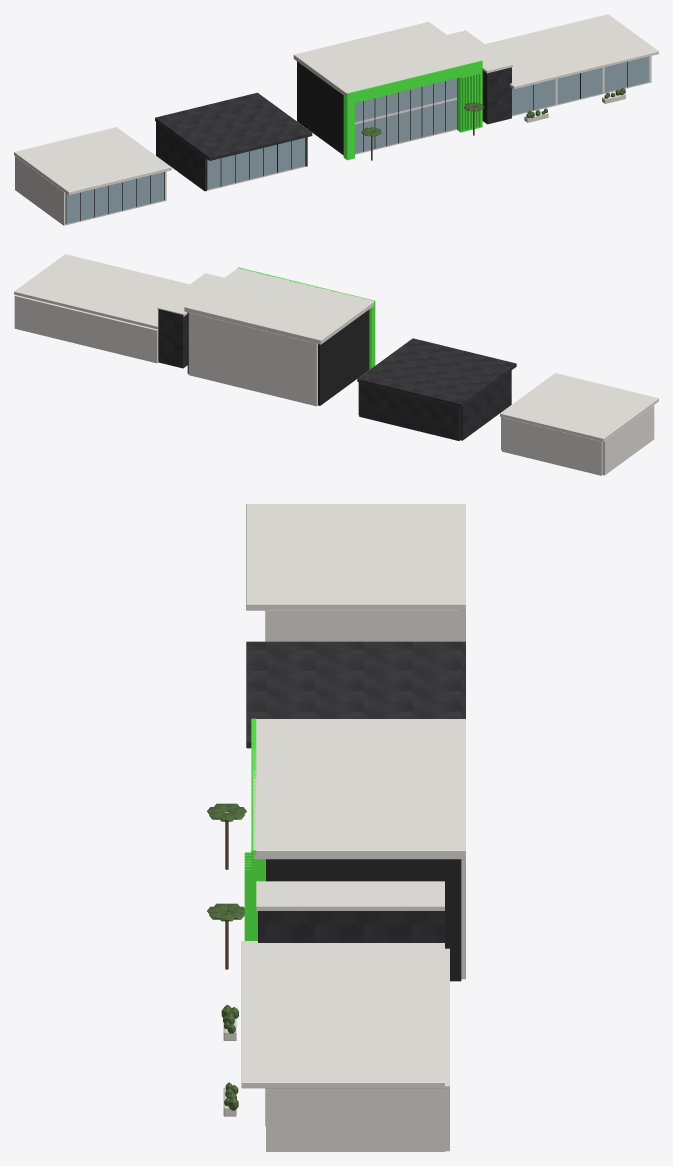
The model's file is comerciais.glb.
3 renders of one model, top to bottom at view 1: azimuth 30°, elevation 25°; view 2: azimuth 150°, elevation 25°; view 3: azimuth 270°, elevation 25°, orthographic. The views are drawn at different scales.
Visible parts, largest first — view 1: lojas_branco, salao_branco, corporativo_grafite, predio_verde_branco, predio_verde_vidro, predio_verde_verde_marca, lojas_vidro, predio_verde_grafite_liso, salao_vidro, corporativo_vidro, lojas_grafite, predio_verde_esquadria; view 2: predio_verde_branco, lojas_branco, corporativo_grafite, salao_branco, predio_verde_grafite_liso, lojas_grafite, predio_verde_verde_marca; view 3: lojas_branco, predio_verde_branco, salao_branco, corporativo_grafite, predio_verde_grafite_liso, lojas_grafite, predio_verde_verde_marca, predio_verde_verde.
Part boxes in pixels (left/top/right/bottom): lojas_branco: left=447, top=14, right=658, bottom=105; salao_branco: left=14, top=127, right=171, bottom=225; corporativo_grafite: left=155, top=92, right=312, bottom=191; predio_verde_branco: left=293, top=21, right=481, bottom=124; predio_verde_vidro: left=355, top=78, right=456, bottom=153; predio_verde_verde_marca: left=343, top=60, right=482, bottom=160; lojas_vidro: left=512, top=56, right=649, bottom=115; predio_verde_grafite_liso: left=297, top=61, right=343, bottom=155; salao_vidro: left=66, top=172, right=164, bottom=223; corporativo_vidro: left=207, top=138, right=305, bottom=189; lojas_grafite: left=482, top=67, right=511, bottom=124; predio_verde_esquadria: left=363, top=78, right=457, bottom=151; predio_verde_branco: left=184, top=268, right=373, bottom=406; lojas_branco: left=14, top=254, right=224, bottom=363; corporativo_grafite: left=357, top=338, right=516, bottom=440; salao_branco: left=500, top=373, right=658, bottom=475; predio_verde_grafite_liso: left=187, top=309, right=369, bottom=405; lojas_grafite: left=158, top=309, right=187, bottom=368; predio_verde_verde_marca: left=238, top=267, right=375, bottom=369; lojas_branco: left=241, top=881, right=449, bottom=1151; predio_verde_branco: left=253, top=719, right=465, bottom=979; salao_branco: left=246, top=504, right=465, bottom=641; corporativo_grafite: left=246, top=641, right=465, bottom=748; predio_verde_grafite_liso: left=266, top=859, right=461, bottom=981; lojas_grafite: left=258, top=911, right=444, bottom=942; predio_verde_verde_marca: left=244, top=718, right=265, bottom=940; predio_verde_verde: left=207, top=803, right=246, bottom=921.
Bounding box in the file's own units: 83.6 × 9 × 15.94.
Materials: 21 (3 with a texture image).
